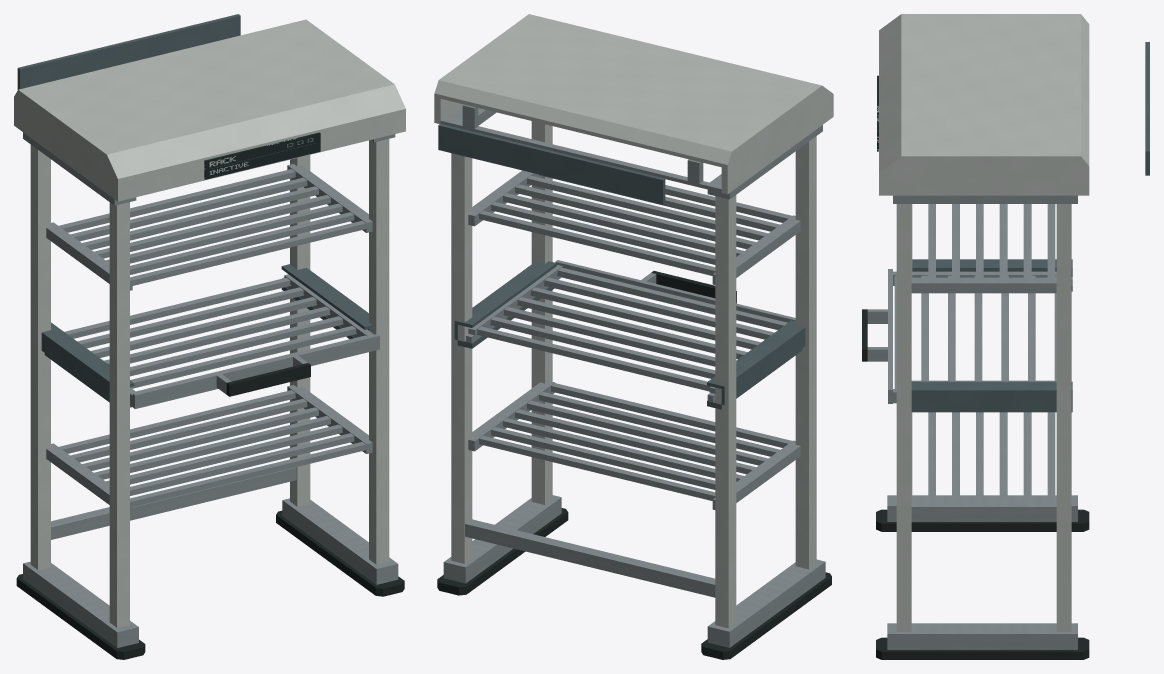
Rendered from AST-HSK-002_service_open.glb.
The picture shows the model from 3 angles, left to right: view 1: azimuth 30°, elevation 25°; view 2: azimuth 150°, elevation 25°; view 3: azimuth 270°, elevation 25°; orthographic projection.
Visible parts, largest first — view 1: AST-HSK-002__static__staff_white_paint, AST-HSK-002__static__staff_zinc, AST-HSK-002__MIDDLE_CARRIER_SLIDE__staff_zinc, AST-HSK-002__HOOD_REAR_SERVICE__staff_bluegrey_paint, AST-HSK-002__static__staff_bluegrey_paint, AST-HSK-002__static__staff_rubber, AST-HSK-002__static__rack_controls, AST-HSK-002__MIDDLE_CARRIER_SLIDE__staff_rubber; view 2: AST-HSK-002__static__staff_white_paint, AST-HSK-002__static__staff_zinc, AST-HSK-002__MIDDLE_CARRIER_SLIDE__staff_zinc, AST-HSK-002__HOOD_REAR_SERVICE__staff_bluegrey_paint, AST-HSK-002__static__staff_bluegrey_paint, AST-HSK-002__static__staff_rubber, AST-HSK-002__MIDDLE_CARRIER_SLIDE__staff_rubber; view 3: AST-HSK-002__static__staff_white_paint, AST-HSK-002__static__staff_zinc, AST-HSK-002__MIDDLE_CARRIER_SLIDE__staff_zinc, AST-HSK-002__static__staff_bluegrey_paint, AST-HSK-002__static__staff_rubber, AST-HSK-002__HOOD_REAR_SERVICE__staff_bluegrey_paint.
Boxes of the visible parts, bbox=[...] form: AST-HSK-002__static__staff_white_paint: bbox=[14, 19, 405, 627]; AST-HSK-002__static__staff_zinc: bbox=[23, 132, 398, 647]; AST-HSK-002__MIDDLE_CARRIER_SLIDE__staff_zinc: bbox=[64, 274, 379, 408]; AST-HSK-002__HOOD_REAR_SERVICE__staff_bluegrey_paint: bbox=[17, 14, 240, 89]; AST-HSK-002__static__staff_bluegrey_paint: bbox=[41, 264, 372, 407]; AST-HSK-002__static__staff_rubber: bbox=[16, 510, 404, 659]; AST-HSK-002__static__rack_controls: bbox=[204, 132, 320, 179]; AST-HSK-002__MIDDLE_CARRIER_SLIDE__staff_rubber: bbox=[226, 363, 310, 396]; AST-HSK-002__static__staff_white_paint: bbox=[434, 14, 833, 628]; AST-HSK-002__static__staff_zinc: bbox=[440, 104, 825, 647]; AST-HSK-002__MIDDLE_CARRIER_SLIDE__staff_zinc: bbox=[466, 260, 795, 402]; AST-HSK-002__HOOD_REAR_SERVICE__staff_bluegrey_paint: bbox=[438, 123, 665, 204]; AST-HSK-002__static__staff_bluegrey_paint: bbox=[454, 261, 805, 409]; AST-HSK-002__static__staff_rubber: bbox=[437, 508, 831, 659]; AST-HSK-002__MIDDLE_CARRIER_SLIDE__staff_rubber: bbox=[651, 271, 736, 303]; AST-HSK-002__static__staff_white_paint: bbox=[879, 14, 1089, 631]; AST-HSK-002__static__staff_zinc: bbox=[887, 195, 1077, 649]; AST-HSK-002__MIDDLE_CARRIER_SLIDE__staff_zinc: bbox=[867, 269, 1072, 403]; AST-HSK-002__static__staff_bluegrey_paint: bbox=[911, 259, 1072, 412]; AST-HSK-002__static__staff_rubber: bbox=[876, 509, 1089, 659]; AST-HSK-002__HOOD_REAR_SERVICE__staff_bluegrey_paint: bbox=[1145, 42, 1149, 175].
Size of the model in its own units: 1.2 by 1.98 by 1.03.
Materials: 5 (5 with a texture image).
